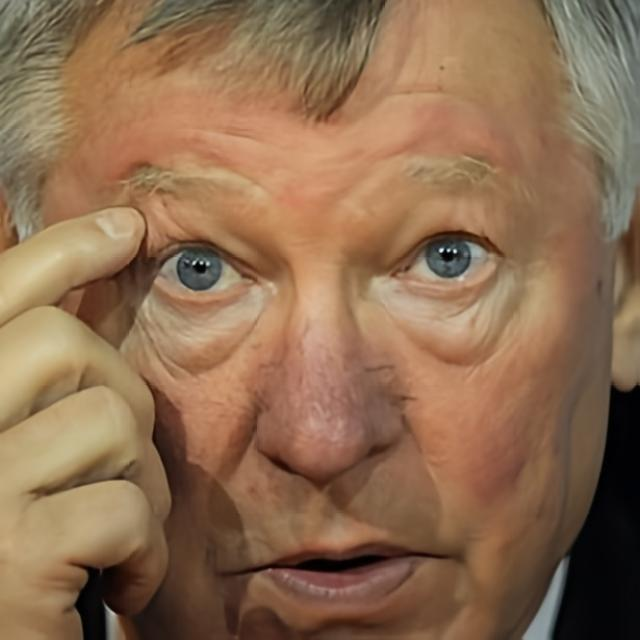surprise: (34, 0, 616, 640)
